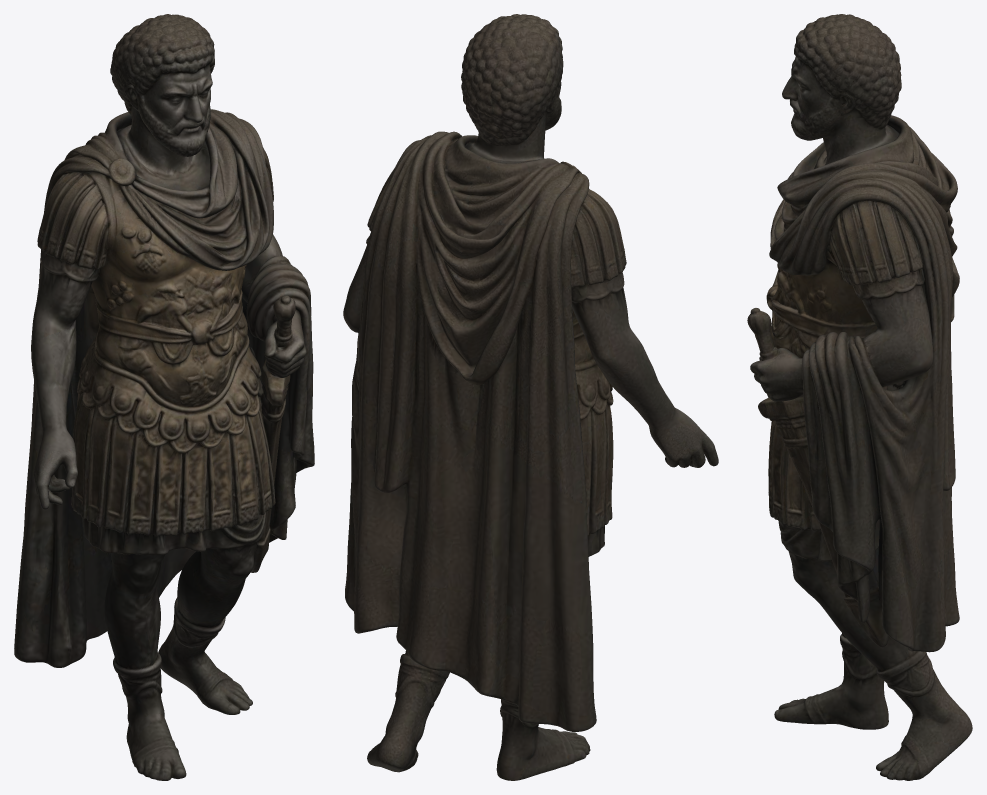
The model's file is corporate-machine.glb.
3 views of the same model, side by side, from view 1: azimuth 30°, elevation 25°; view 2: azimuth 150°, elevation 25°; view 3: azimuth 270°, elevation 25° (orthographic). The views are drawn at different scales.
Bounding box in the file's own units: 0.8338 × 1.89 × 0.5424.
Materials: 1 (1 with a texture image).
